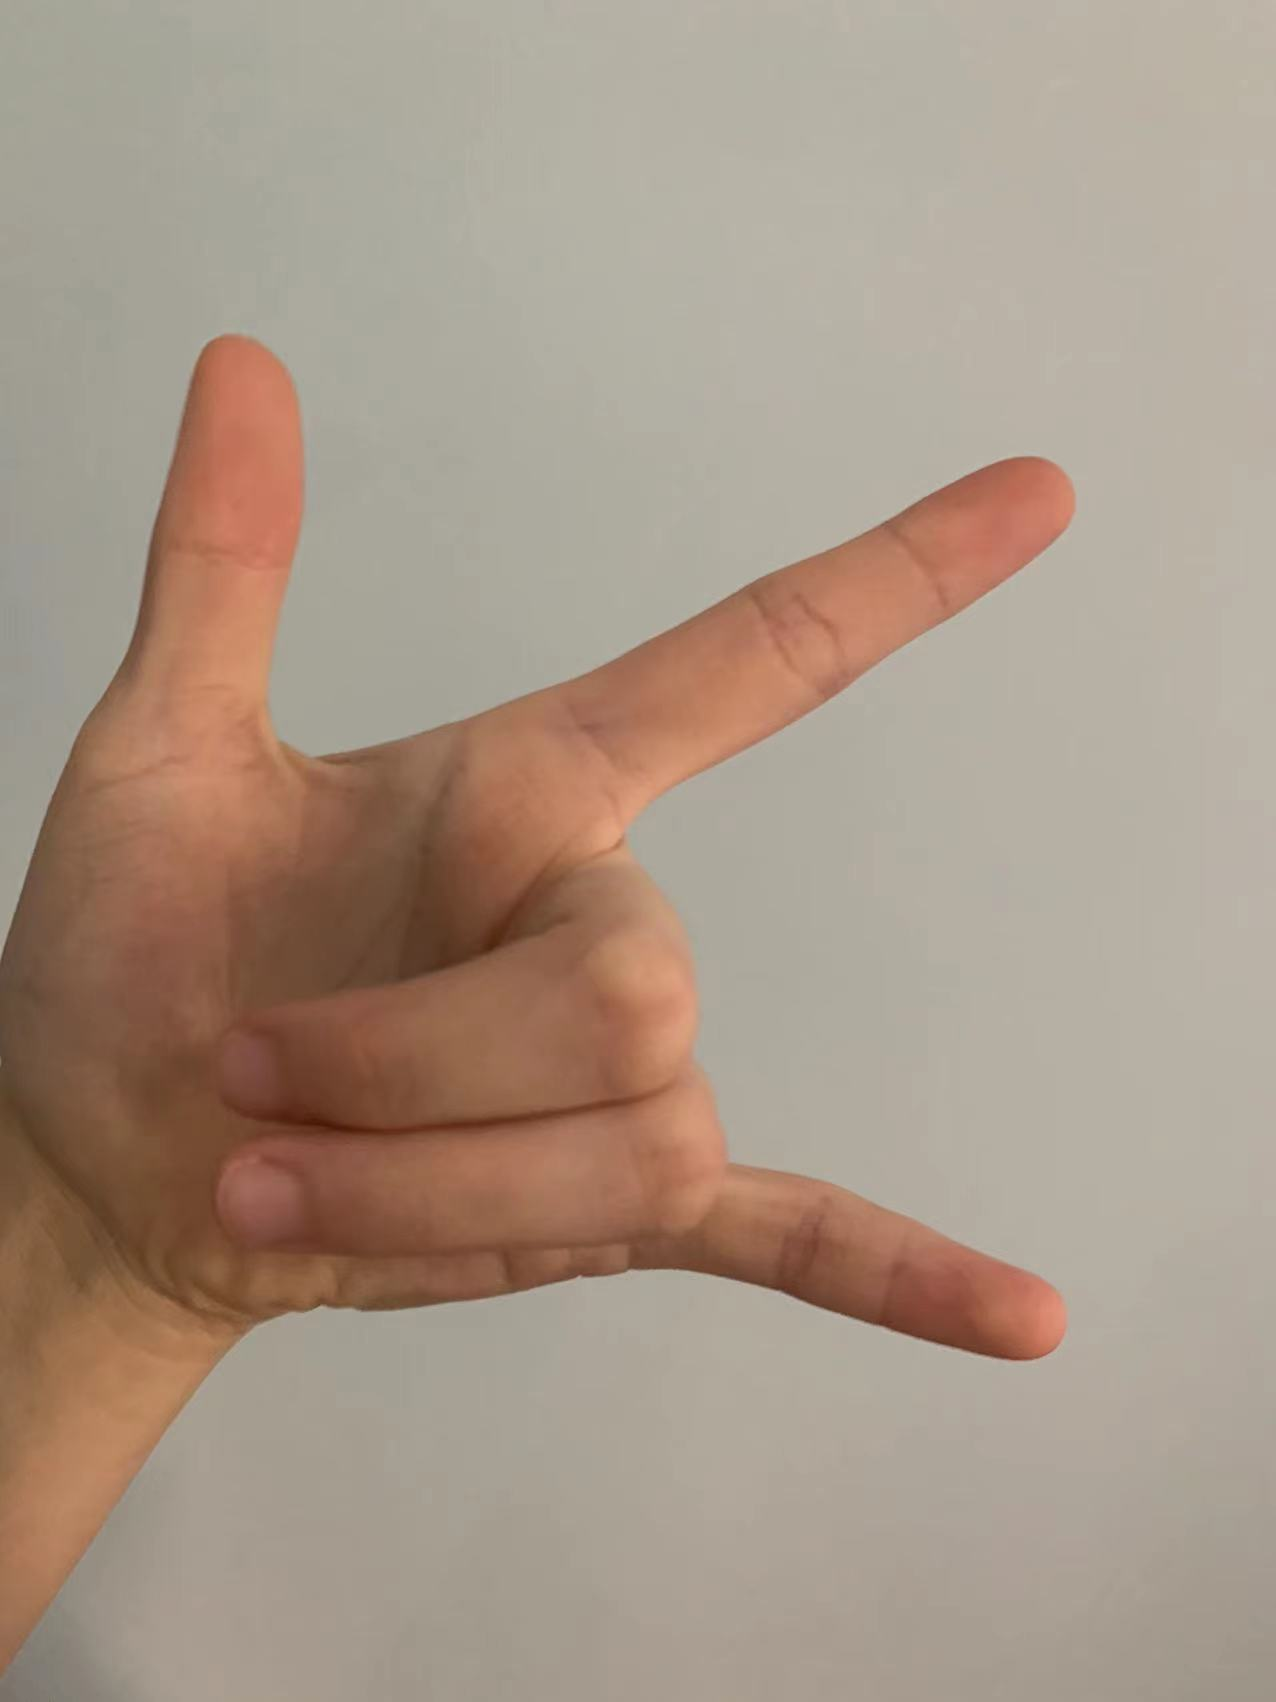back: (1, 326, 1143, 1398)
